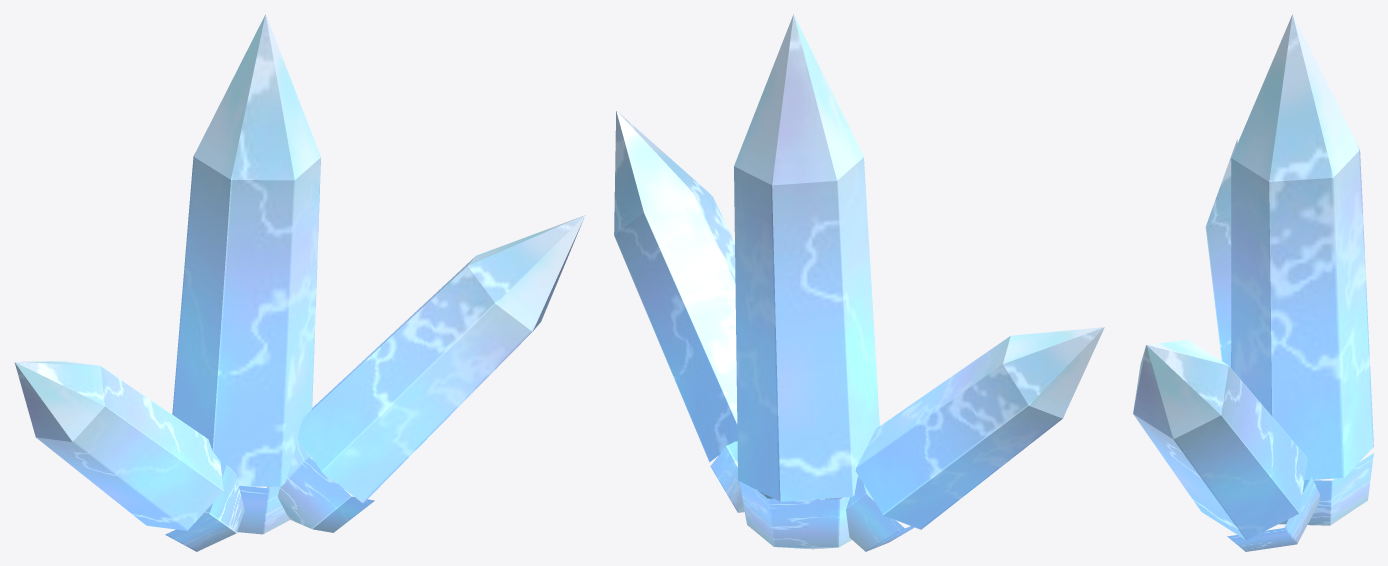
The model's file is cristal_v01.glb.
3 views of the same model, side by side, from view 1: azimuth 30°, elevation 25°; view 2: azimuth 150°, elevation 25°; view 3: azimuth 270°, elevation 25° (orthographic).
Parts seen in each view (by area): view 1: cristal; view 2: cristal; view 3: cristal.
Boxes of the visible parts, left/top/right/bottom form: cristal: left=14, top=14, right=585, bottom=551; cristal: left=614, top=14, right=1104, bottom=551; cristal: left=1133, top=14, right=1373, bottom=551.
Size of the model in its own units: 0.7655 by 0.718 by 0.3018.
1 material, 1 textured.
